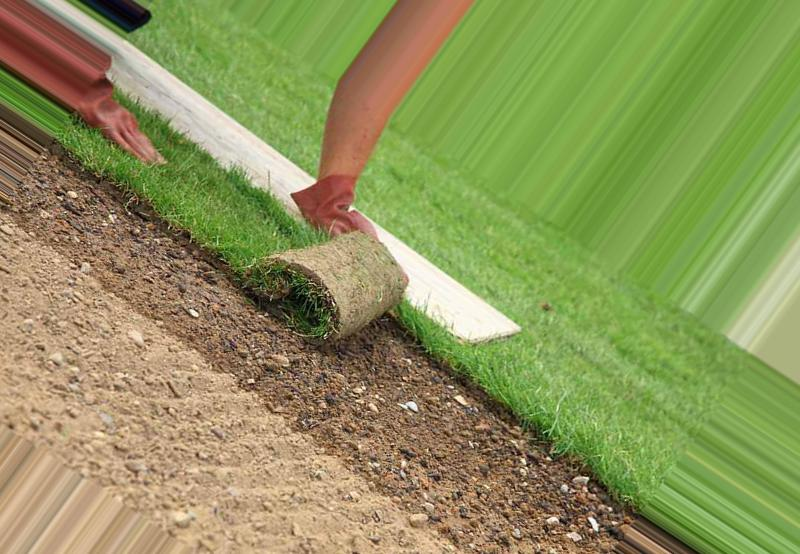patch: (22, 343, 220, 520), (177, 279, 315, 464), (327, 412, 466, 554), (28, 184, 152, 332), (477, 435, 574, 534), (353, 355, 456, 446), (224, 477, 308, 554)
